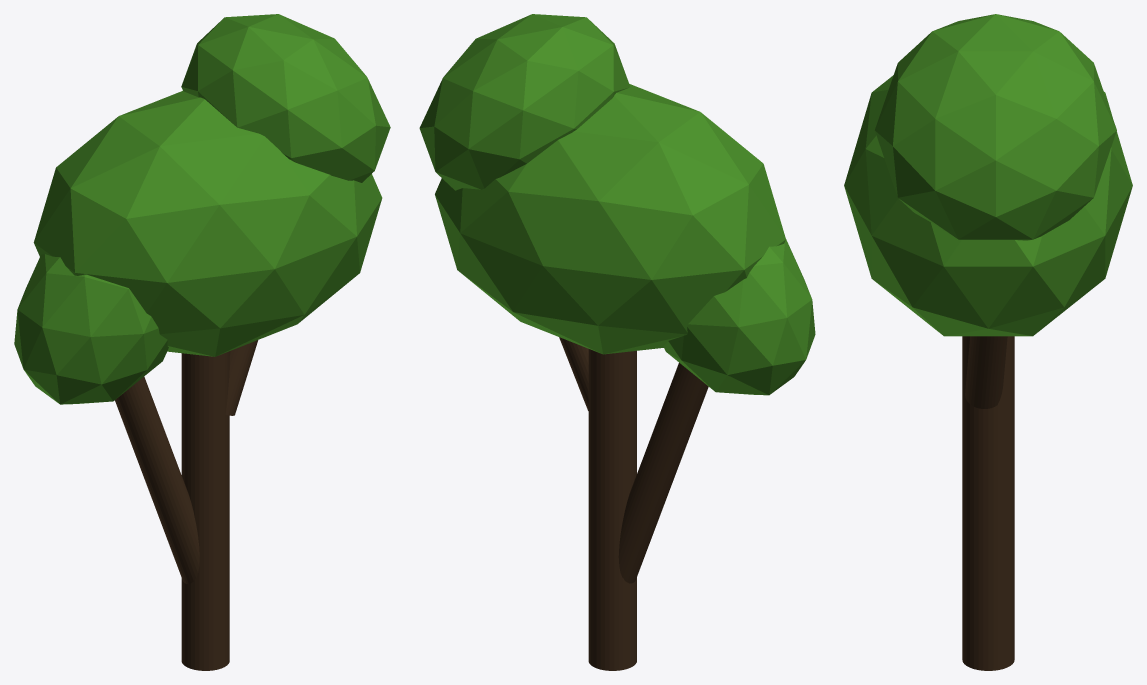
Rendered from Tree2.fbx.
The picture shows the model from 3 angles, left to right: view 1: azimuth 30°, elevation 25°; view 2: azimuth 150°, elevation 25°; view 3: azimuth 270°, elevation 25°; orthographic projection. The views are drawn at different scales.
Visible parts, largest first — view 1: Icosphere.004, Icosphere.005, Icosphere.003, Circle.004, Cylinder.012, Cylinder.013; view 2: Icosphere.004, Icosphere.005, Circle.004, Icosphere.003, Cylinder.012, Cylinder.013; view 3: Icosphere.005, Icosphere.004, Circle.004, Cylinder.013.
Part boxes in pixels (left/top/right/bottom): Icosphere.004: left=33, top=91, right=382, bottom=356; Icosphere.005: left=181, top=14, right=390, bottom=182; Icosphere.003: left=14, top=254, right=168, bottom=404; Circle.004: left=181, top=351, right=229, bottom=670; Cylinder.012: left=115, top=377, right=199, bottom=584; Cylinder.013: left=225, top=340, right=258, bottom=415; Icosphere.004: left=435, top=84, right=785, bottom=354; Icosphere.005: left=419, top=14, right=630, bottom=190; Circle.004: left=588, top=349, right=636, bottom=670; Icosphere.003: left=663, top=239, right=815, bottom=395; Cylinder.012: left=618, top=363, right=708, bottom=583; Cylinder.013: left=559, top=337, right=588, bottom=410; Icosphere.005: left=874, top=14, right=1116, bottom=240; Icosphere.004: left=844, top=75, right=1132, bottom=336; Circle.004: left=962, top=336, right=1014, bottom=670; Cylinder.013: left=965, top=336, right=1007, bottom=408.
Bounding box in the file's own units: 824 × 1360 × 531.
